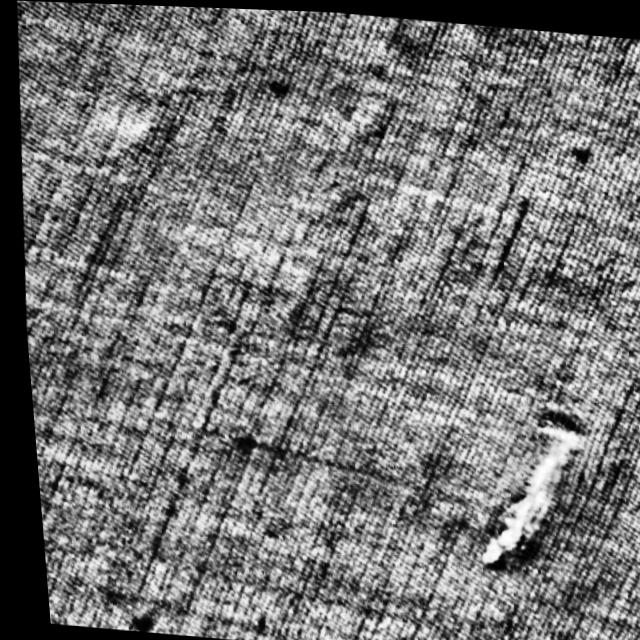Hole: (429, 408, 617, 576)
